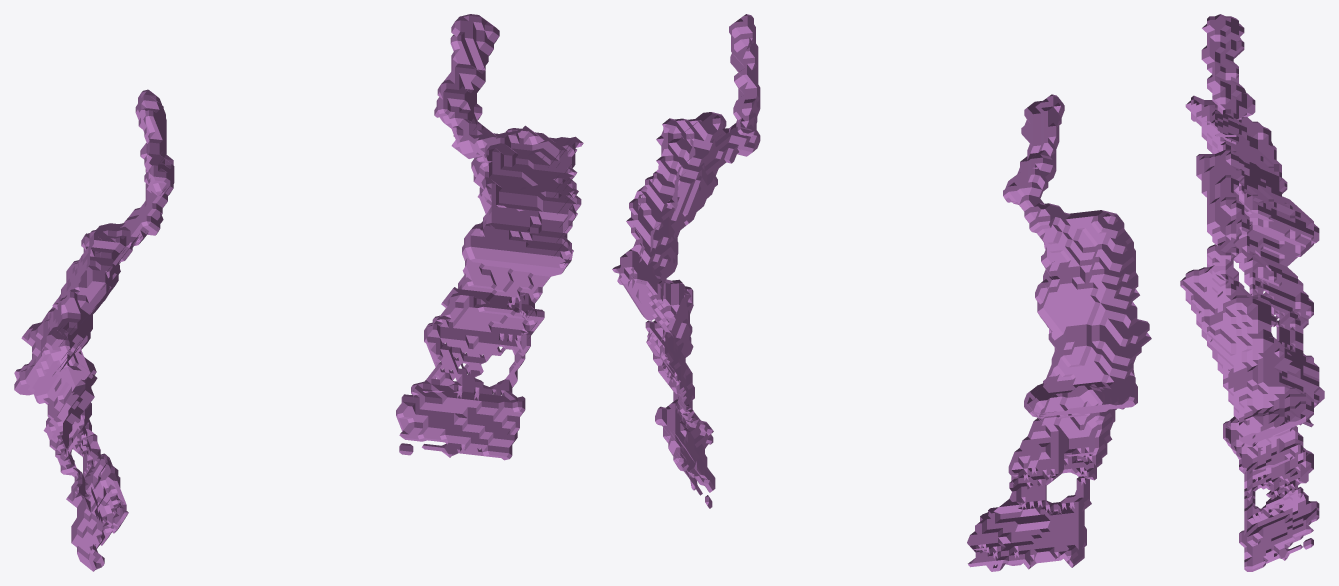
Rendered from region_0080_LOT__lateral_olfactory_tract_.glb.
The picture shows the model from 3 angles, left to right: view 1: azimuth 30°, elevation 25°; view 2: azimuth 150°, elevation 25°; view 3: azimuth 270°, elevation 25°; orthographic projection. The views are drawn at different scales.
Visible parts, largest first — view 1: world; view 2: world; view 3: world.
Boxes of the visible parts, x1=… form: world: x1=14, y1=14, x2=583, y2=571; world: x1=612, y1=14, x2=1151, y2=571; world: x1=1180, y1=14, x2=1324, y2=571.
Size of the model in its own units: 0.832 by 0.672 by 0.216.
